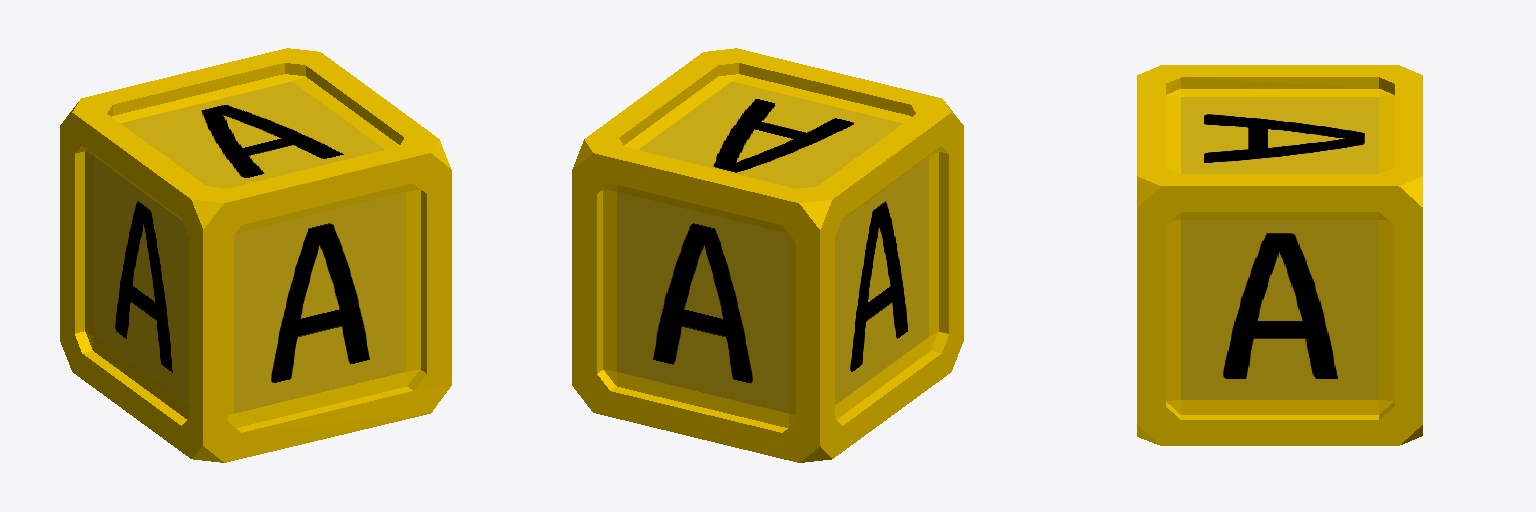
3 renders of one model, left to right at view 1: azimuth 30°, elevation 25°; view 2: azimuth 150°, elevation 25°; view 3: azimuth 270°, elevation 25°, orthographic.
Parts seen in each view (by area): view 1: Cube_Cube.001; view 2: Cube_Cube.001; view 3: Cube_Cube.001.
Boxes of the visible parts, box(x1,y1,x2,y2) form: Cube_Cube.001: box(60, 48, 451, 462); Cube_Cube.001: box(572, 48, 963, 462); Cube_Cube.001: box(1137, 65, 1422, 445).
Size of the model in its own units: 2 by 2.01 by 2.
Materials: 1 (1 with a texture image).